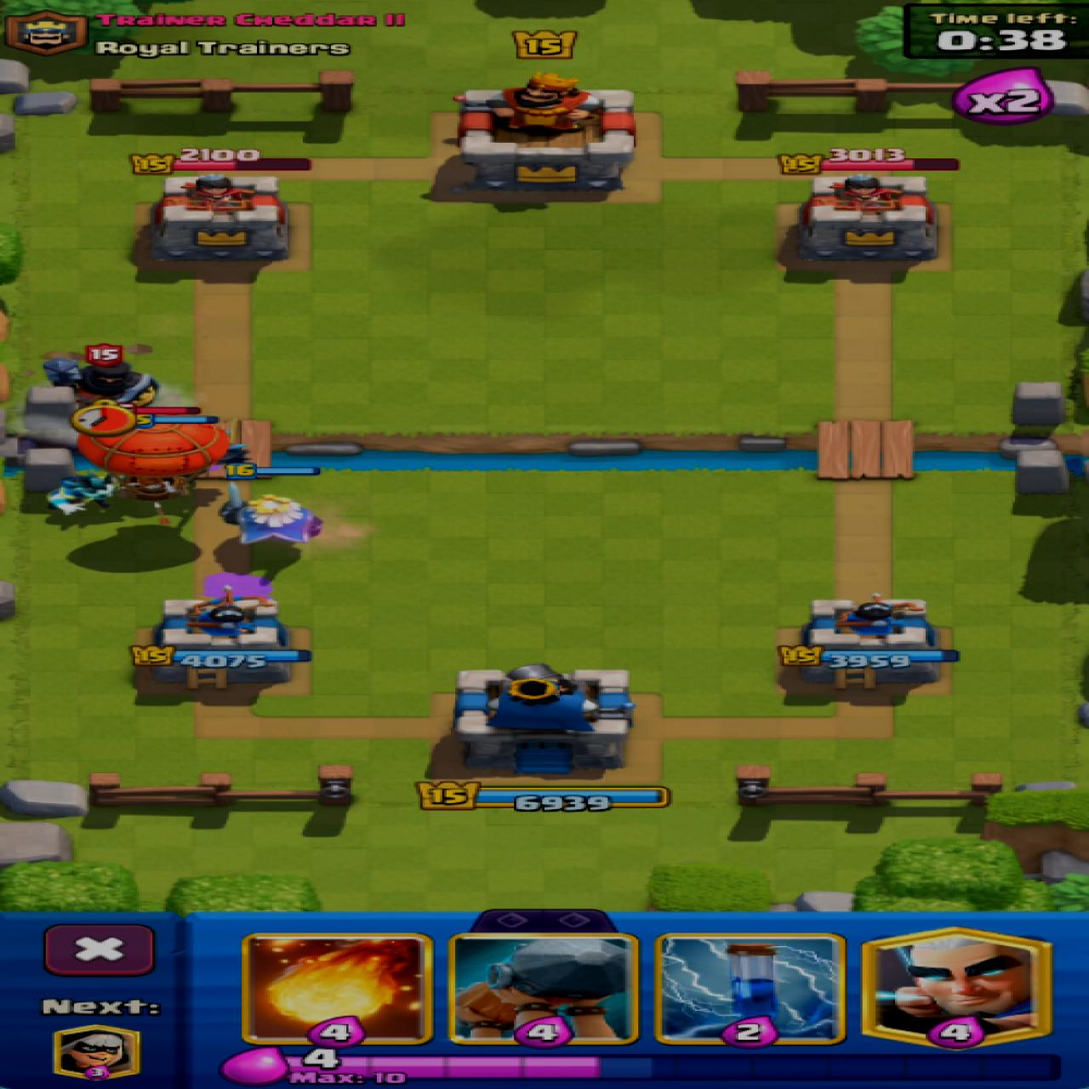Enemy-Balloon: (78, 415, 231, 502)
Enemy-DarkPrince-Shield: (46, 359, 157, 405)
Enemy-KingTower: (457, 73, 634, 192)
Enemy-PrincessTower: (150, 174, 287, 260), (799, 174, 934, 258)
